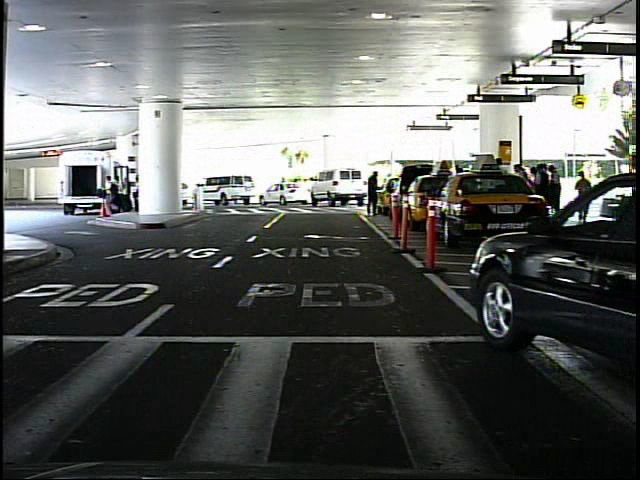person: (362, 164, 386, 220), (577, 166, 590, 208)
